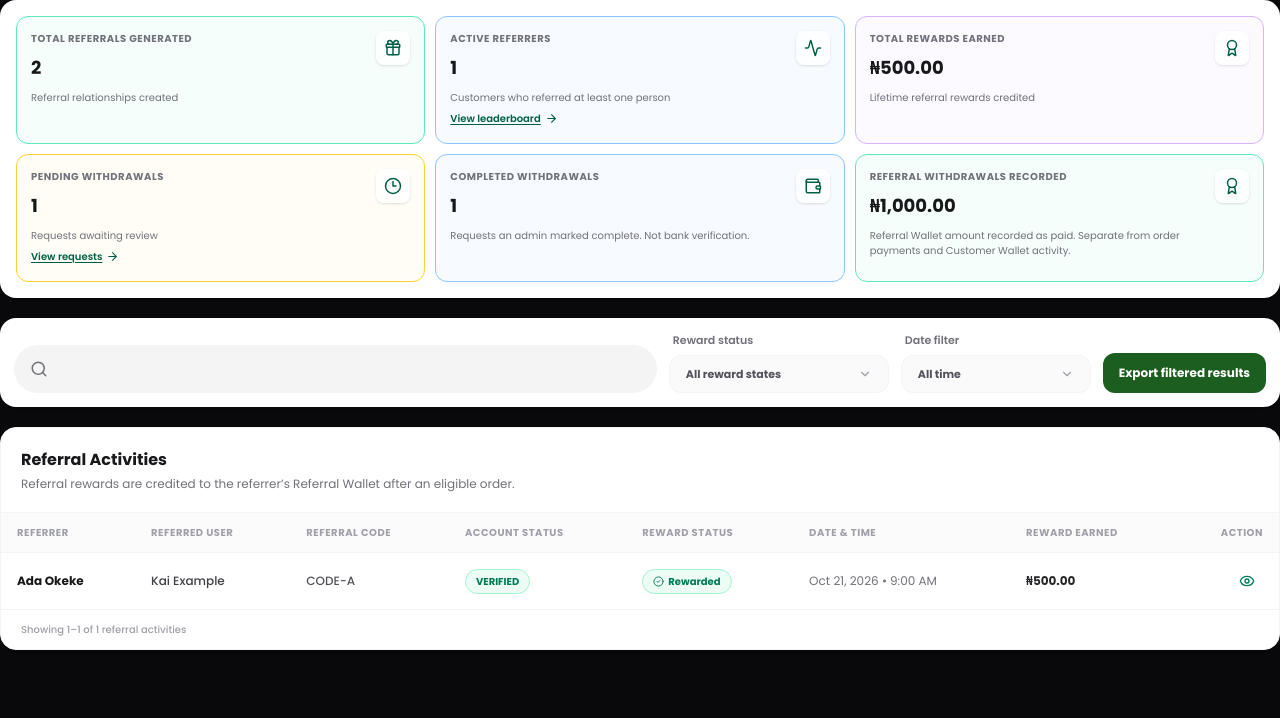
it: Super Admin referral wallet activities › uses the row referrerUserId for the customer activity panel
The image size is (1280, 718).
Expected: the text "Kai Example" is shown, x1=135 y1=552 x2=290 y2=609
Click the button named "View Ada Okeke’s referral activity". click: point(1247, 581)
box: x1=1231 y1=565 x2=1263 y2=597
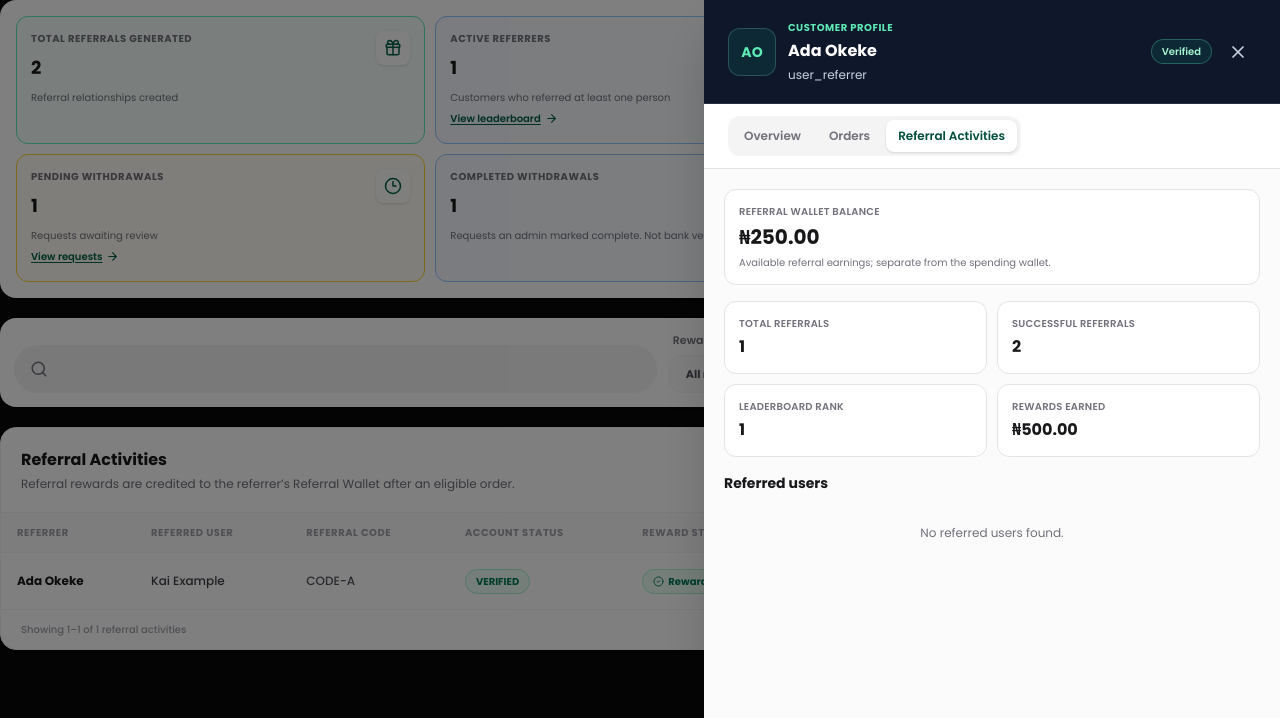
Expected: the text "Referral wallet balance" is shown, x1=739 y1=204 x2=880 y2=219
Click the button "Overview". click: point(772, 136)
box: x1=732 y1=120 x2=813 y2=152
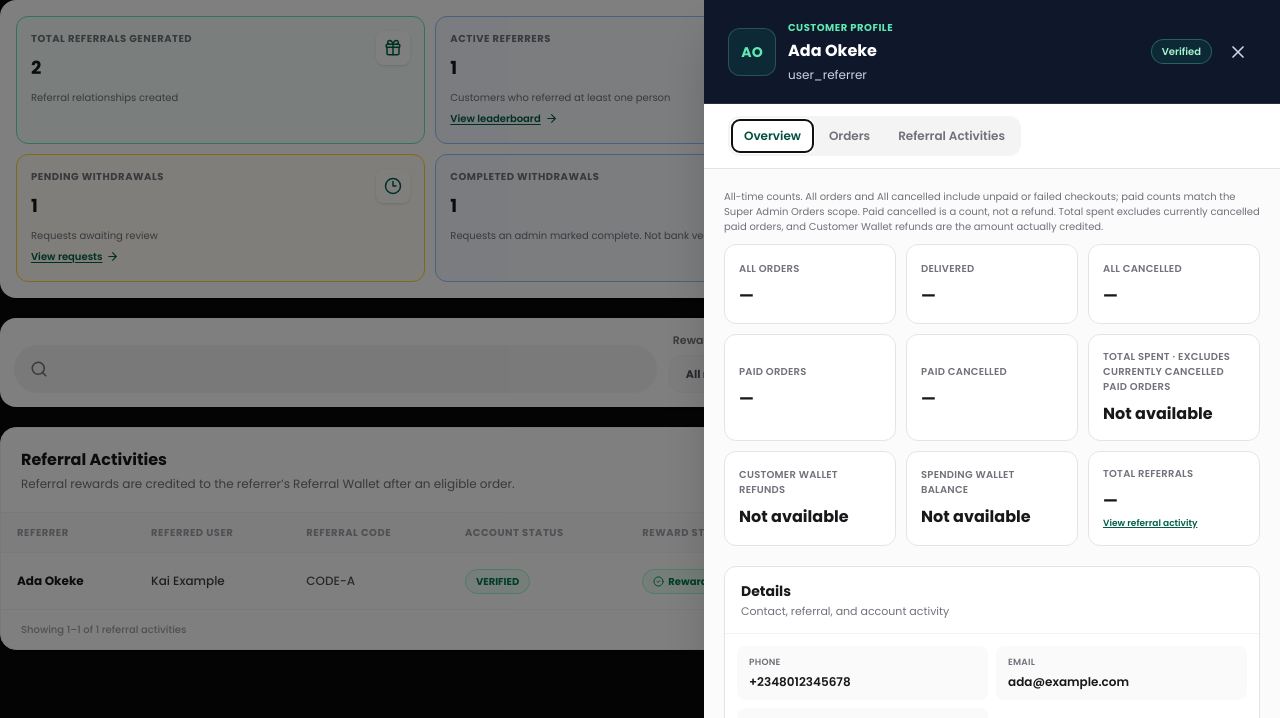
Expected: the text "Verified" is shown, x1=1151 y1=39 x2=1212 y2=64
Expected: the text "+2348012345678" is shown, x1=749 y1=672 x2=851 y2=690
Expected: the text "ada@example.com" is shown, x1=1008 y1=672 x2=1129 y2=690
